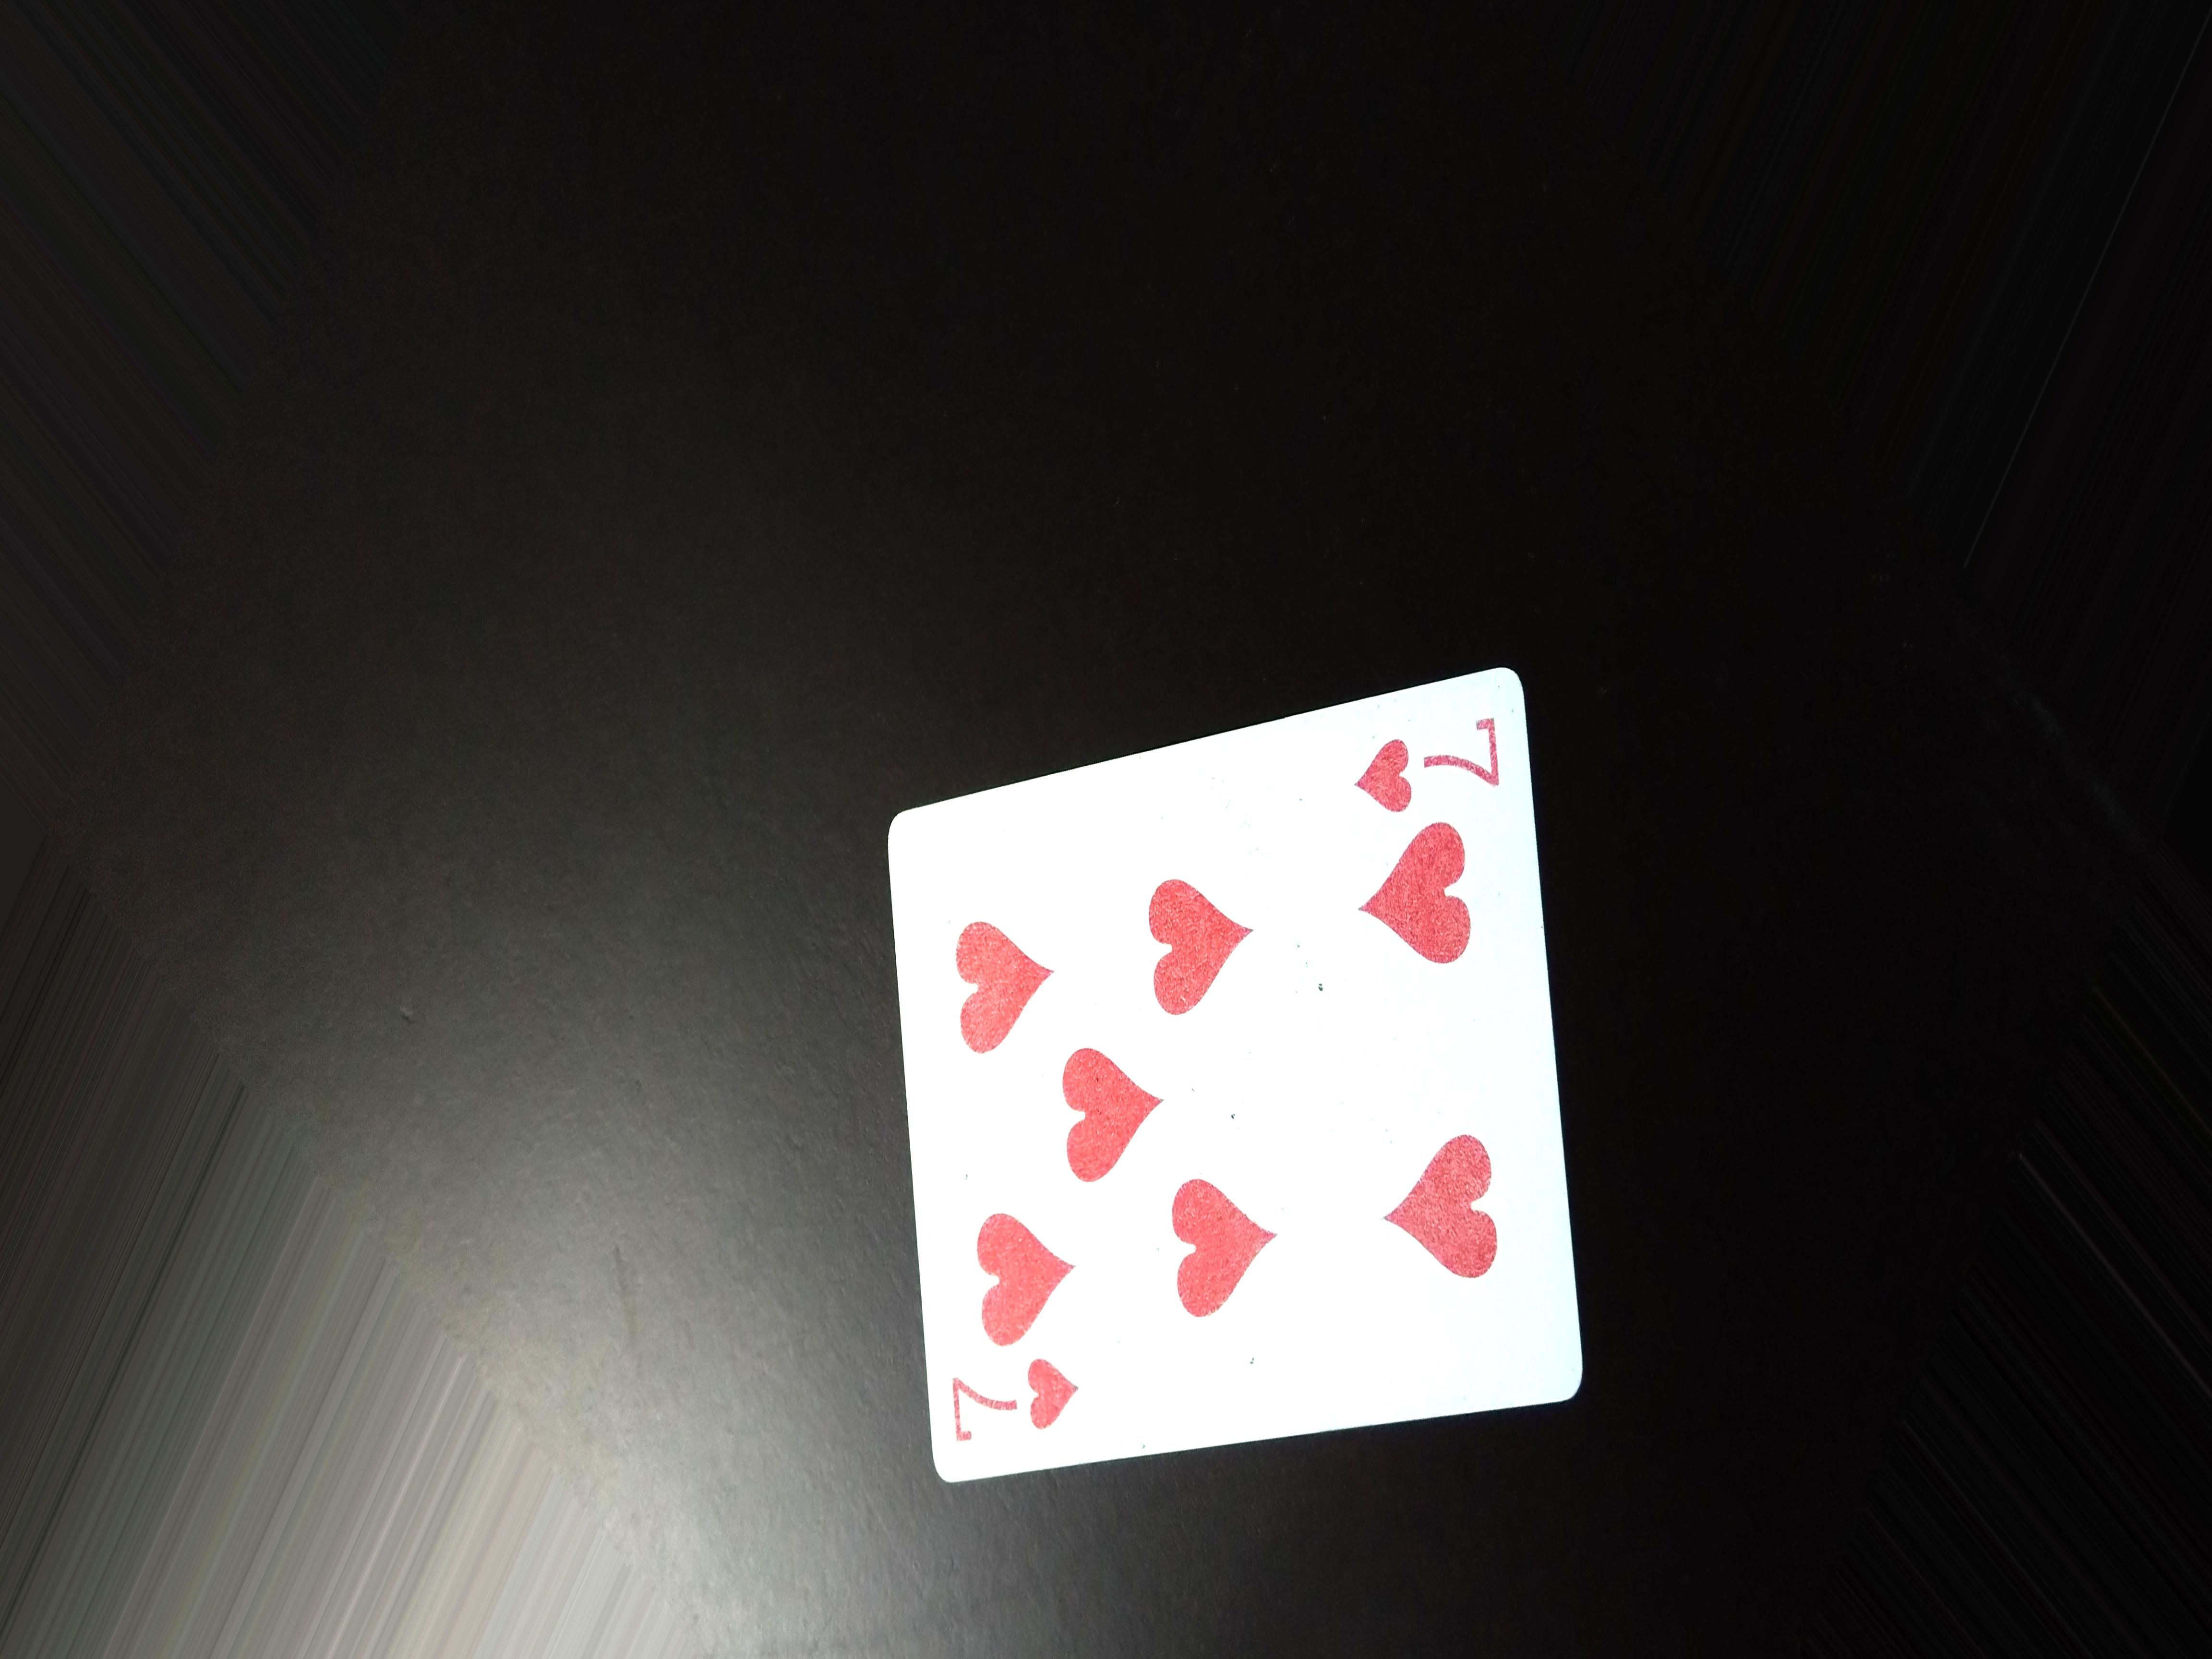7H: (1350, 690, 1512, 835)
